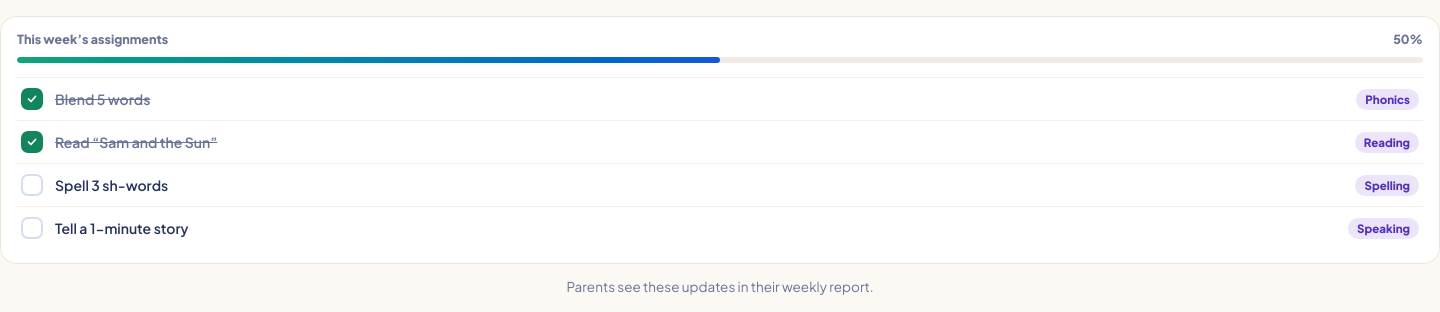
Test case: WeeklyAssignments › goes back to the pending message when a finished week loses a tick
The width and height of the screenshot is (1440, 312).
What coordinates should you click on to do the following:
click the button "Spell 3 sh-words Spelling"
I would click on:
 (112, 185)
Its box is x1=17 y1=163 x2=1423 y2=206.
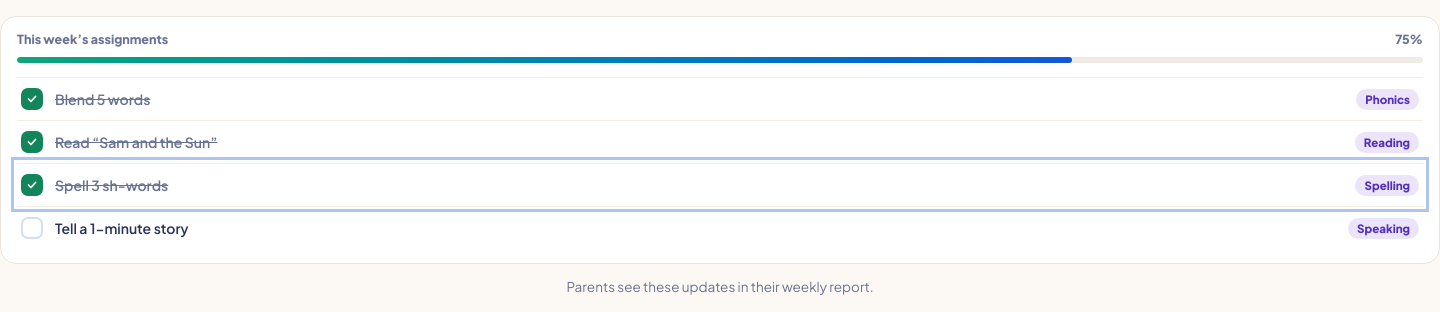
What coordinates should you click on to do the following:
click the button "Tell a 1-minute story Speaking"
I would click on:
 (122, 228)
Its box is x1=17 y1=206 x2=1423 y2=249.
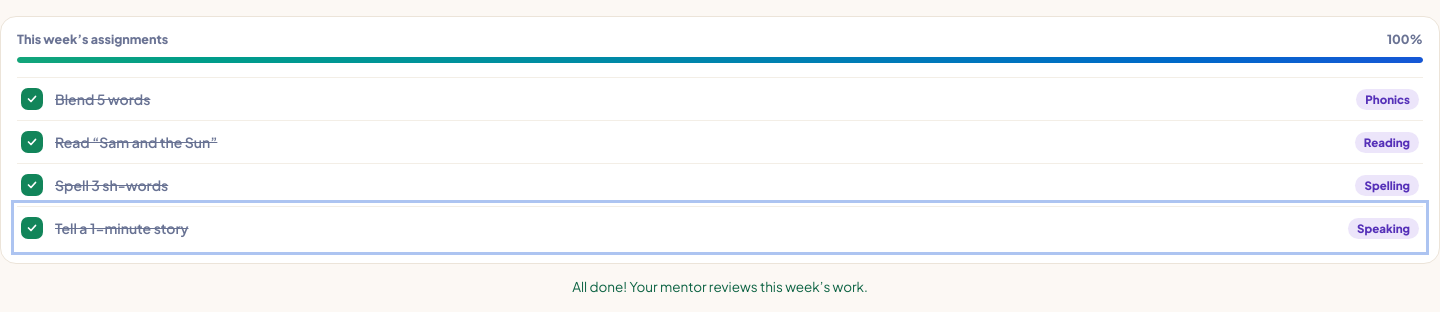
What coordinates should you click on to do the following:
click the button "Spell 3 sh-words Spelling"
I would click on:
 (112, 185)
Its box is x1=17 y1=163 x2=1423 y2=206.
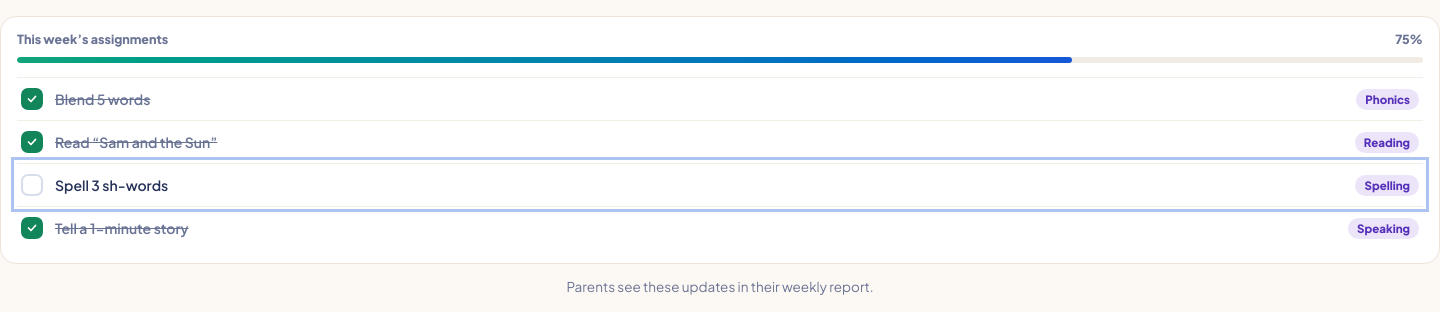
Check: the text "75%" is shown, box x1=1395 y1=31 x2=1423 y2=47
Check: the text "Parents see these updates in their weekly report." is shown, box x1=566 y1=278 x2=874 y2=295
Check: the text "All done! Your mentor reviews this week’s work." is gone
